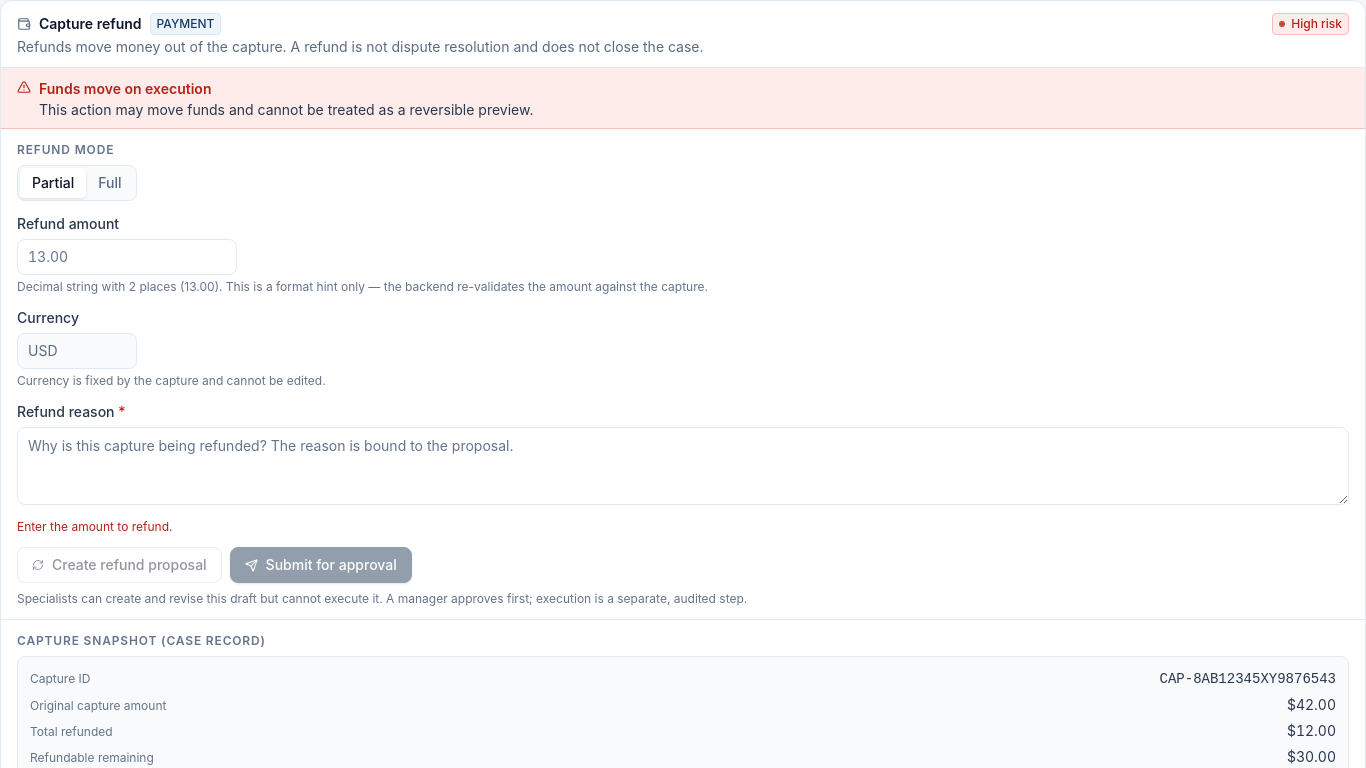
refund — amount rules › disables the draft for a malformed amount (2 decimals required)
The width and height of the screenshot is (1366, 768).
In the field labelled "Refund amount": {"x": 127, "y": 257} [17,239,237,275], type "13.5"
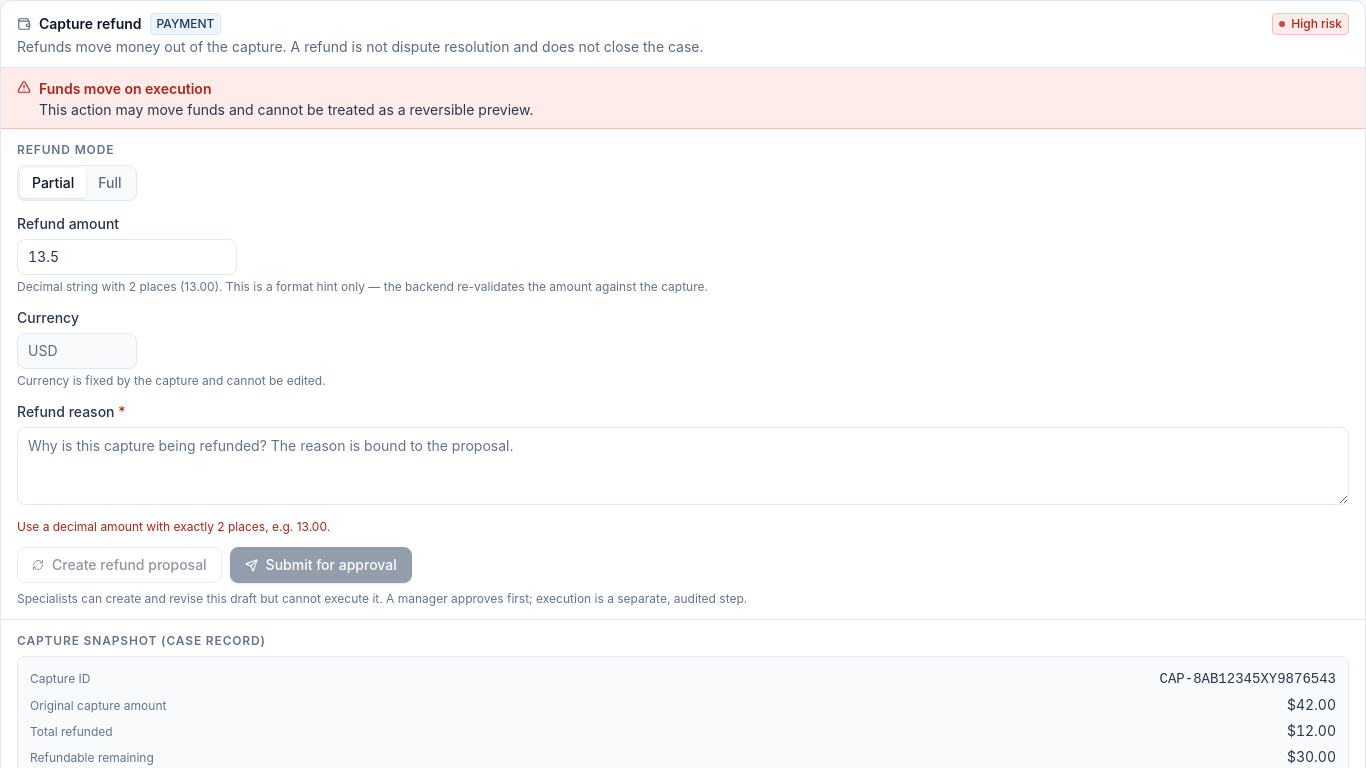
Check: the button "Create refund proposal" is disabled, box [17,547,222,583]
Check: the text "Use a decimal amount with exactly 2 places, e.g. 13.00." is shown, box [17,519,330,534]
